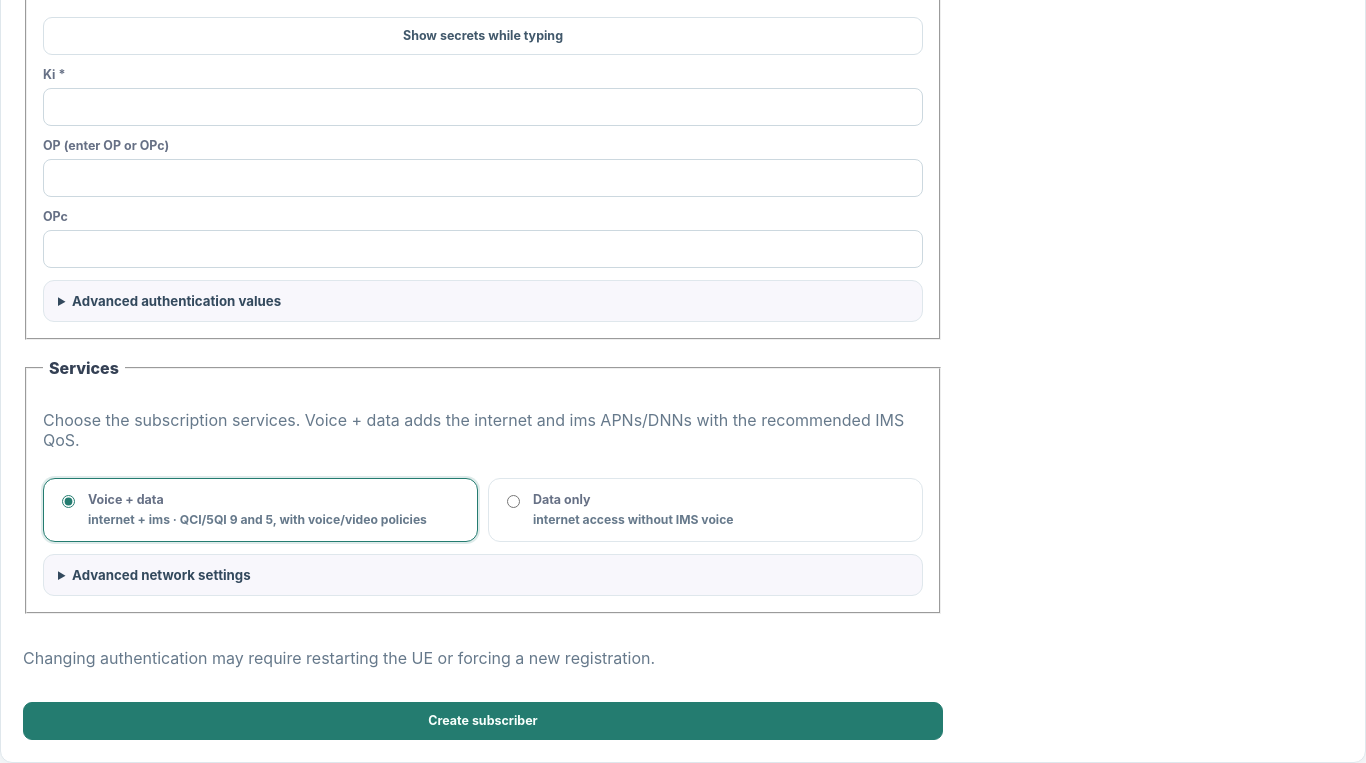
Test: Subscriber management › validates form fields before creation
The image size is (1366, 763).
(page scrolled)
Step 1. Click the button "Create subscriber" → (483, 721), box [23,702,943,740]
(page scrolled)
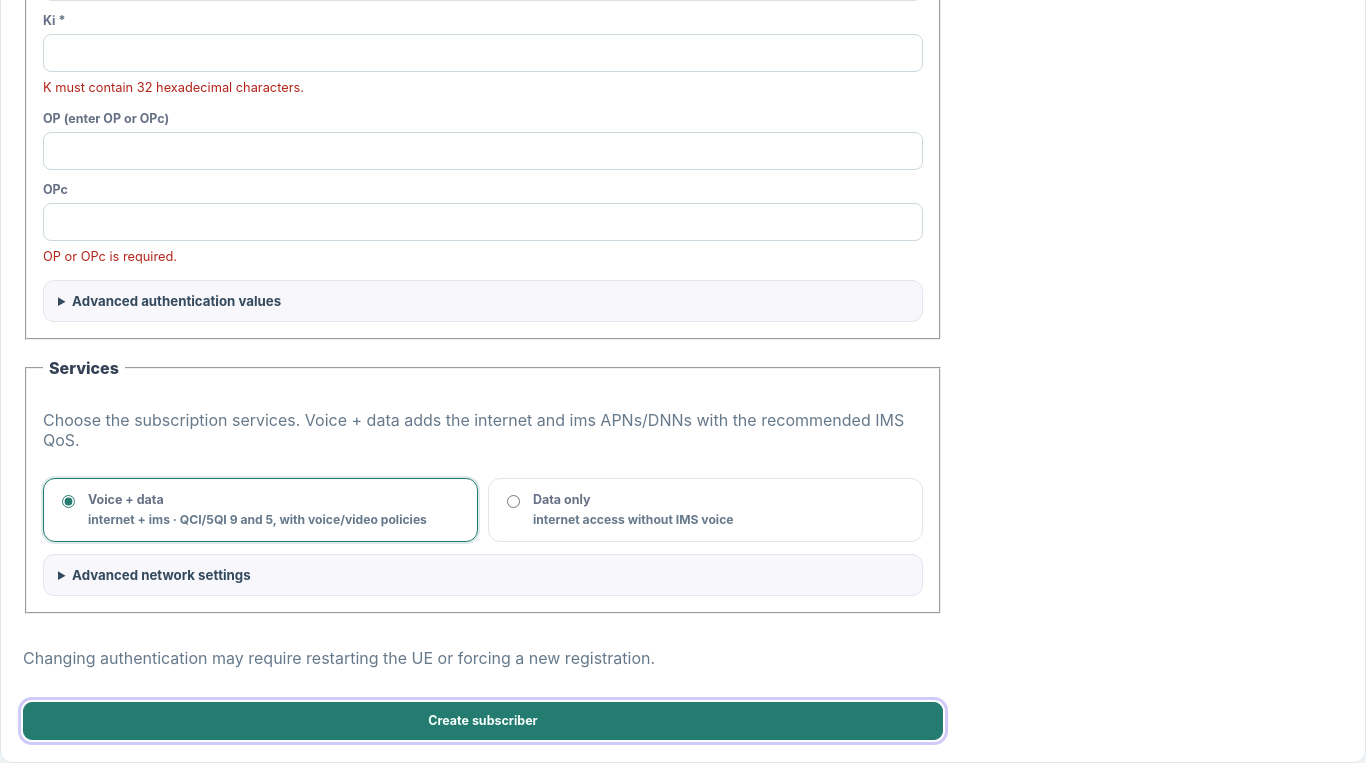
Check: the text "K must contain 32 hexadecimal characters." is shown, box [43,80,304,95]
